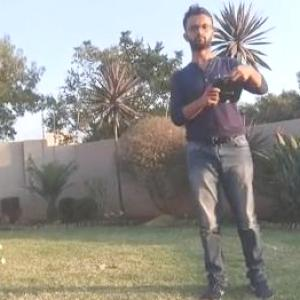follow: (166, 0, 281, 299)
